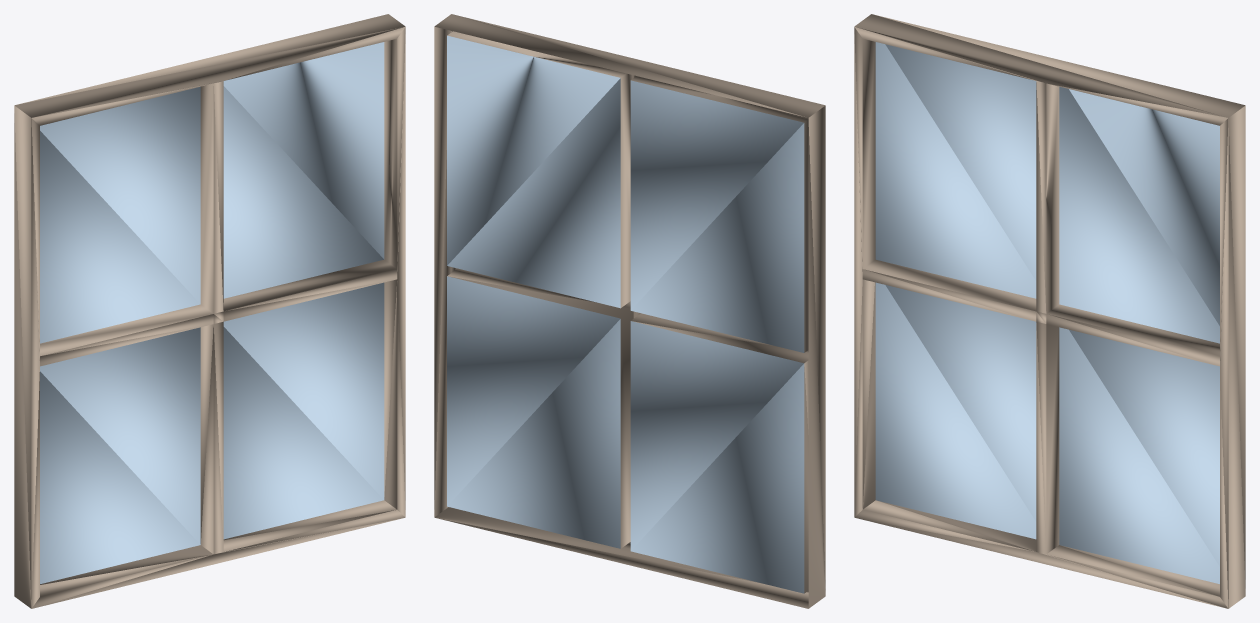
File: classroom_window_v3.fbx
The picture shows the model from 3 angles, left to right: view 1: azimuth 30°, elevation 25°; view 2: azimuth 150°, elevation 25°; view 3: azimuth 330°, elevation 25°; orthographic projection.
Parts seen in each view (by area): view 1: pCube10; view 2: pCube10; view 3: pCube10.
Part boxes in pixels (x1,y1,x2,y2): pCube10: [14, 14, 405, 608]; pCube10: [434, 14, 825, 608]; pCube10: [854, 14, 1245, 608].
Size of the model in its own units: 4.91 by 6.16 by 0.3924.
